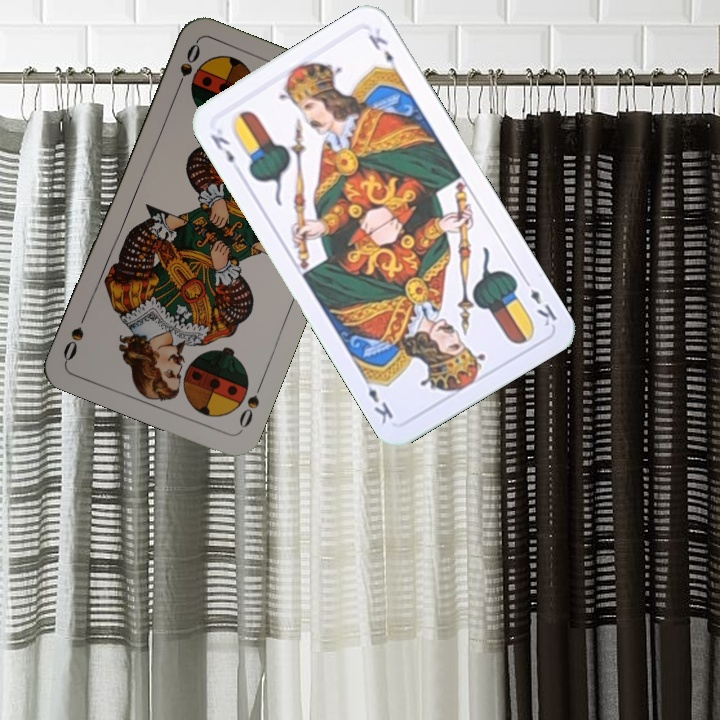EK: (519, 273, 560, 329), (206, 130, 237, 166)
SO: (171, 39, 203, 96), (234, 377, 266, 434)
